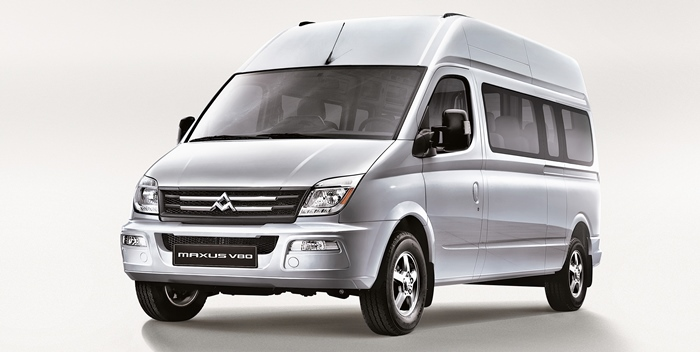van: (117, 13, 605, 336)
